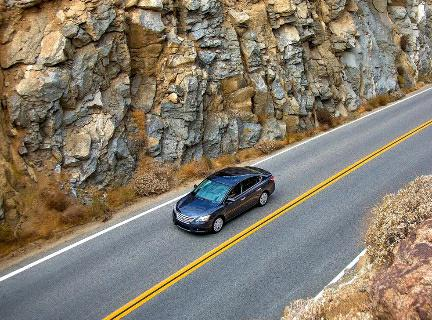日产-聆风: (169, 163, 280, 234)
